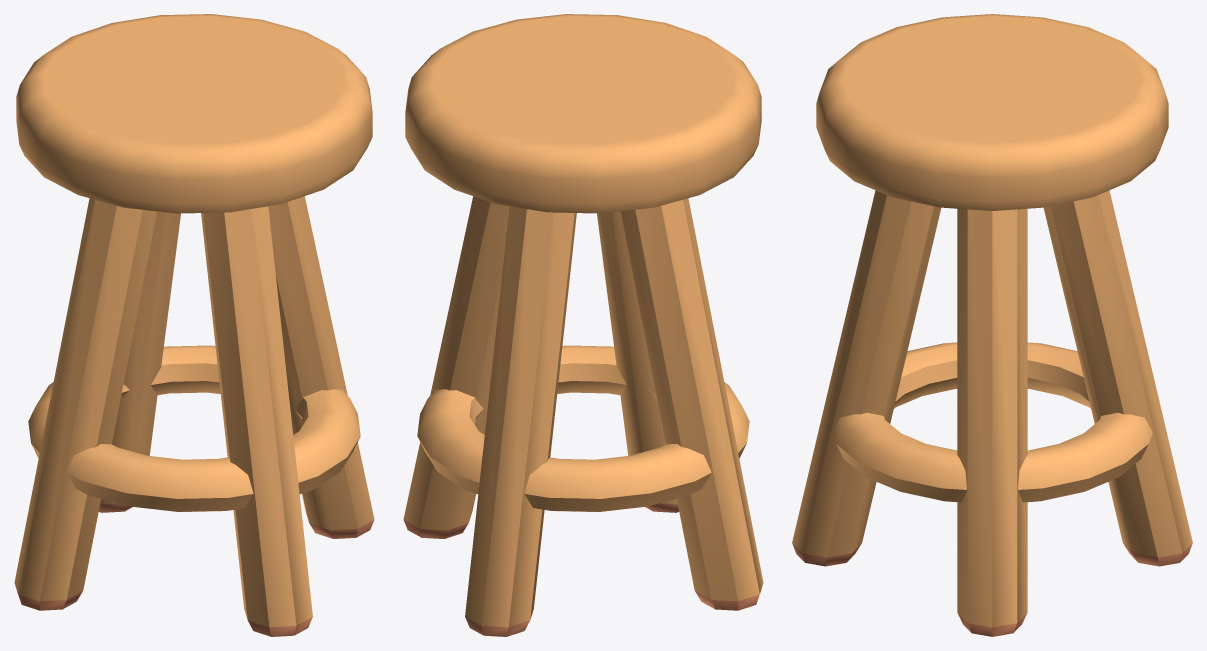
File: banqueta_madeira_aro_pacote.glb
3 views of the same model, side by side, from view 1: azimuth 30°, elevation 25°; view 2: azimuth 150°, elevation 25°; view 3: azimuth 270°, elevation 25° (orthographic).
Visible parts, largest first — view 1: banqueta_madeira_aro_pacote; view 2: banqueta_madeira_aro_pacote; view 3: banqueta_madeira_aro_pacote.
Part boxes in pixels (bbox=[...]): banqueta_madeira_aro_pacote: bbox=[14, 14, 374, 636]; banqueta_madeira_aro_pacote: bbox=[403, 14, 763, 636]; banqueta_madeira_aro_pacote: bbox=[792, 14, 1192, 636].
Size of the model in its own units: 0.4549 by 0.6 by 0.4549.
1 material, 1 textured.
